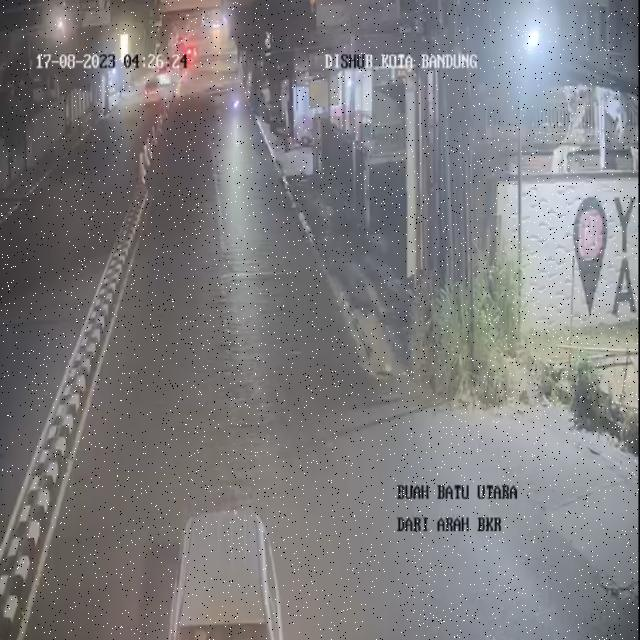cars: (151, 486, 302, 640)
